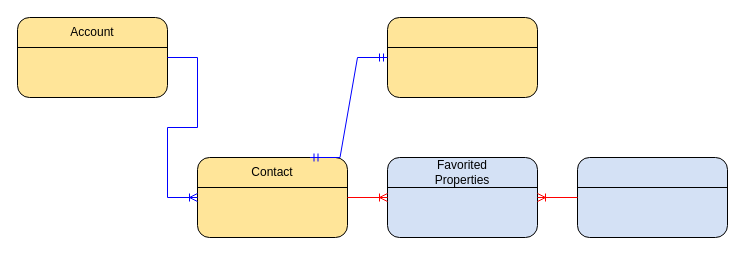
Some shapes in this 746 by 255 pixel diagram are drawn without their labels. The shapes that lost their labels are listed below. From the top down, each one's centre as x and y in pixels, then its label:
At pixel 462 57: "User".
At pixel 652 197: "Property".
